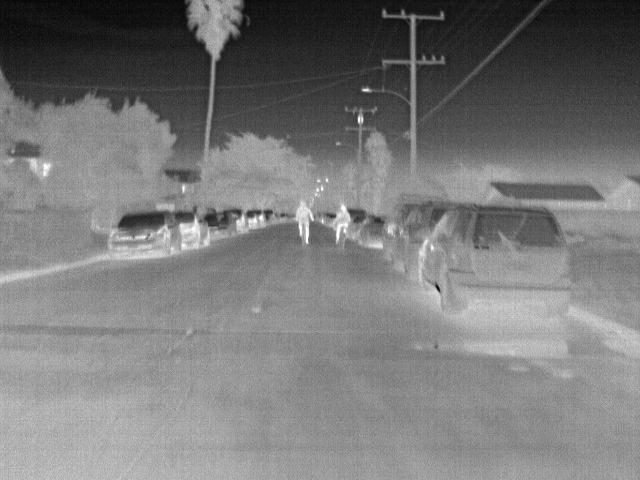car: (413, 202, 576, 318), (394, 200, 459, 276), (106, 209, 177, 260), (385, 201, 415, 257), (177, 212, 209, 247), (355, 214, 382, 249), (201, 211, 238, 235), (226, 208, 249, 231), (249, 209, 266, 226), (243, 212, 259, 228), (262, 208, 275, 222)
person: (293, 200, 314, 242), (330, 204, 352, 242)
